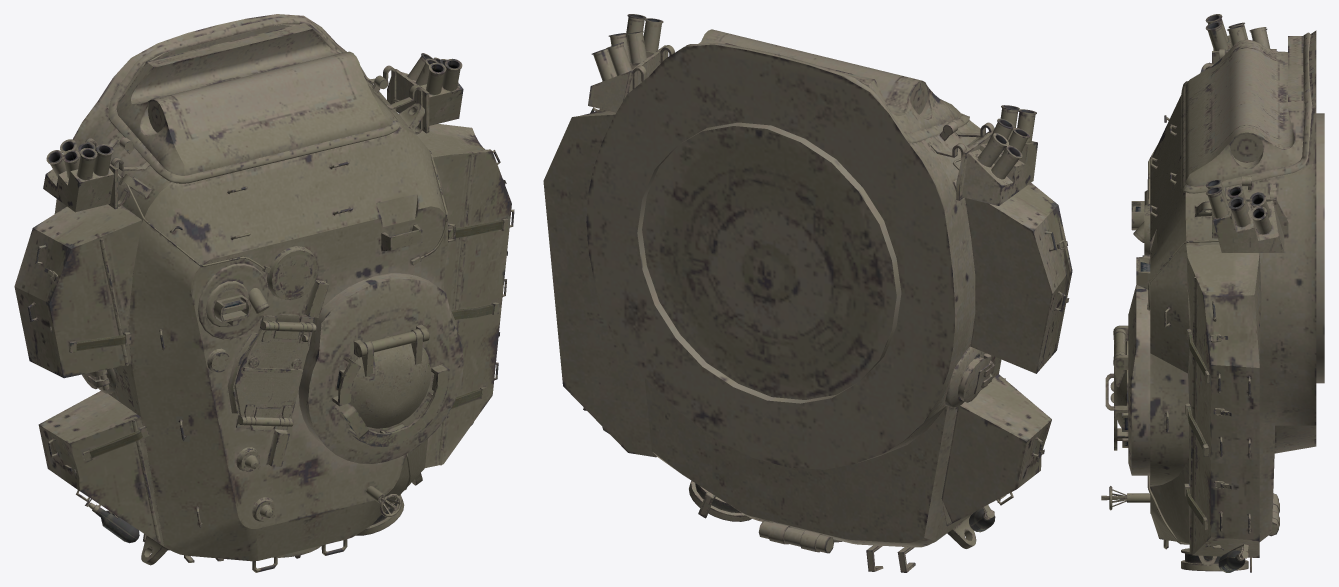
File: Turret_01.glb
3 renders of one model, left to right at view 1: azimuth 30°, elevation 25°; view 2: azimuth 150°, elevation 25°; view 3: azimuth 270°, elevation 25°, orthographic. The views are drawn at different scales.
Visible parts, largest first — view 1: set_0_group_0; view 2: set_0_group_0; view 3: set_0_group_0.
Boxes of the visible parts, x1,y1,x2,y2 form: set_0_group_0: (14, 14, 514, 572); set_0_group_0: (543, 14, 1072, 572); set_0_group_0: (1101, 14, 1324, 572).
Bounding box in the file's own units: 3.33 × 3.21 × 1.38.
Materials: 1 (1 with a texture image).
